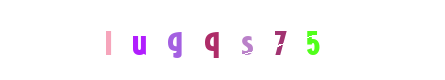5: (273, 0, 353, 80)
7: (271, 0, 351, 80)
G: (161, 0, 241, 80)
L: (99, 0, 179, 80)
Q: (182, 0, 262, 80)
S: (198, 0, 278, 80)
U: (118, 0, 198, 80)
